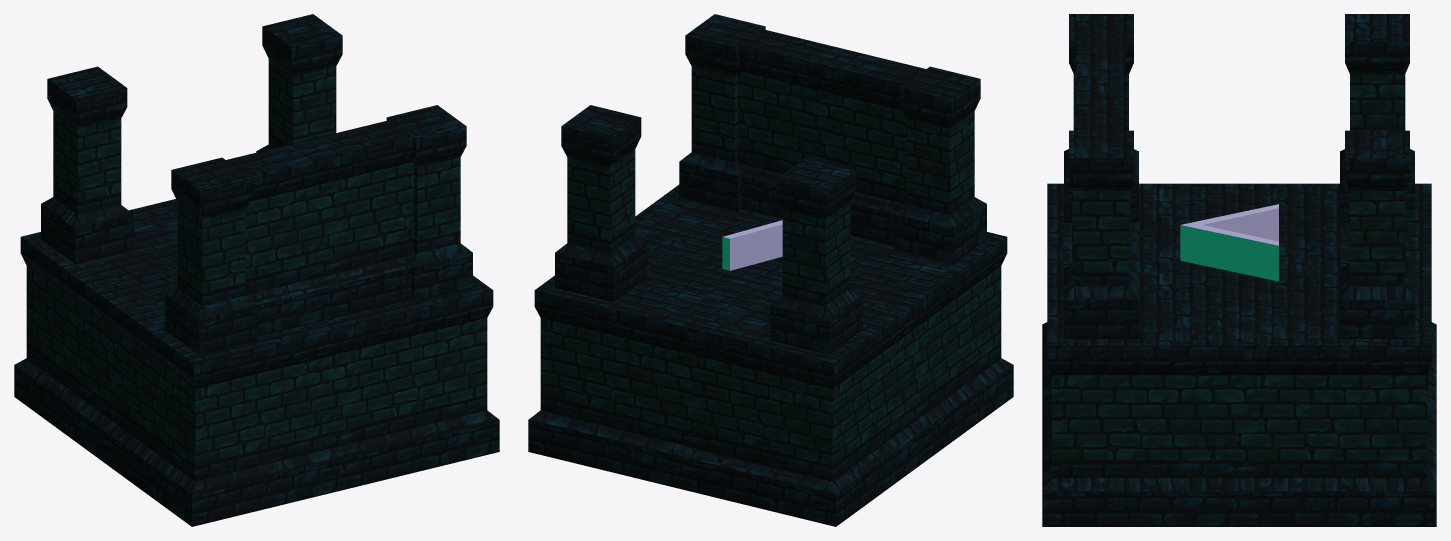
Rendered from debug-wall-forward.glb.
The picture shows the model from 3 angles, left to right: view 1: azimuth 30°, elevation 25°; view 2: azimuth 150°, elevation 25°; view 3: azimuth 270°, elevation 25°; orthographic projection. The views are drawn at different scales.
Parts seen in each view (by area): view 1: mergedBlocks(Clone); view 2: mergedBlocks(Clone); view 3: mergedBlocks(Clone).
Boxes of the visible parts, x1,y1,x2,y2 form: mergedBlocks(Clone): [14, 14, 499, 526]; mergedBlocks(Clone): [528, 14, 1013, 526]; mergedBlocks(Clone): [1042, 14, 1436, 526].
Bounding box in the file's own units: 2 × 2 × 2.
4 materials, 2 textured.
